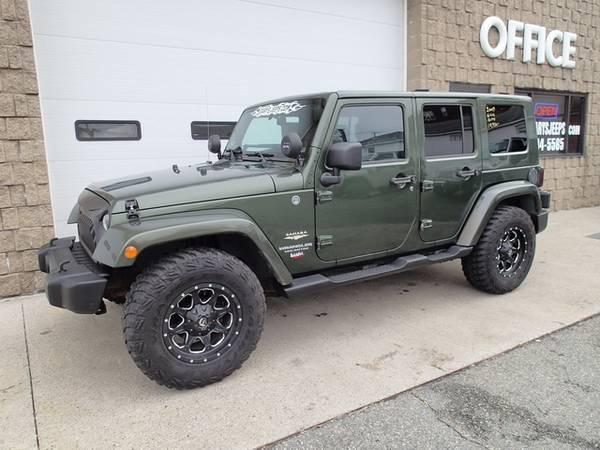Front_Bumper: (37, 235, 112, 314)
Front_Fender: (93, 188, 319, 283)
Front_Left_Door: (308, 159, 419, 270)
Front_Left_Window: (305, 92, 414, 173)
Front_Windshield: (221, 96, 335, 172)
Grille: (77, 189, 112, 256)
Hood: (83, 157, 310, 212)
Rear_Fender: (458, 94, 541, 247)
Rear_Left_Door: (419, 153, 483, 249)
Rear_Left_Window: (410, 92, 482, 160)
Wheel: (122, 246, 267, 387), (460, 205, 539, 292)
